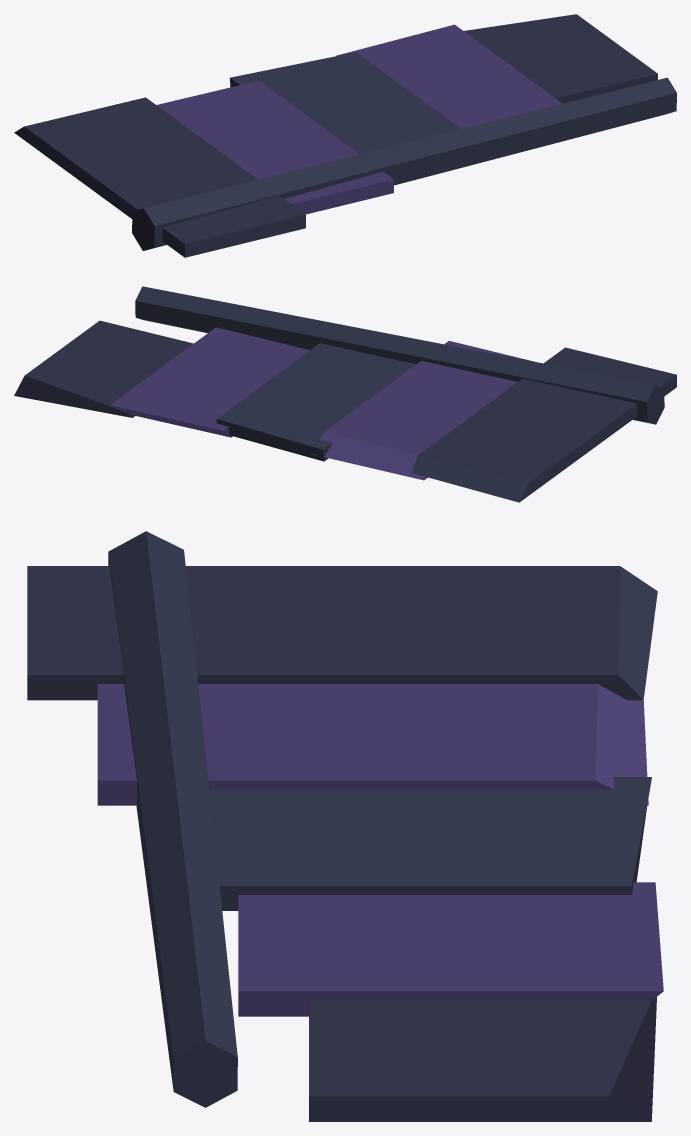
Rendered from bird_wing.glb.
3 views of the same model, one above another, from view 1: azimuth 30°, elevation 25°; view 2: azimuth 150°, elevation 25°; view 3: azimuth 270°, elevation 25° (orthographic). The views are drawn at different scales.
Parts seen in each view (by area): view 1: bird_wing; view 2: bird_wing; view 3: bird_wing.
Boxes of the visible parts, <box> form: bird_wing: <box>14,14,676,257</box>; bird_wing: <box>14,286,676,502</box>; bird_wing: <box>27,531,663,1121</box>.
Bounding box in the file's own units: 6.01 × 0.5069 × 3.21.
